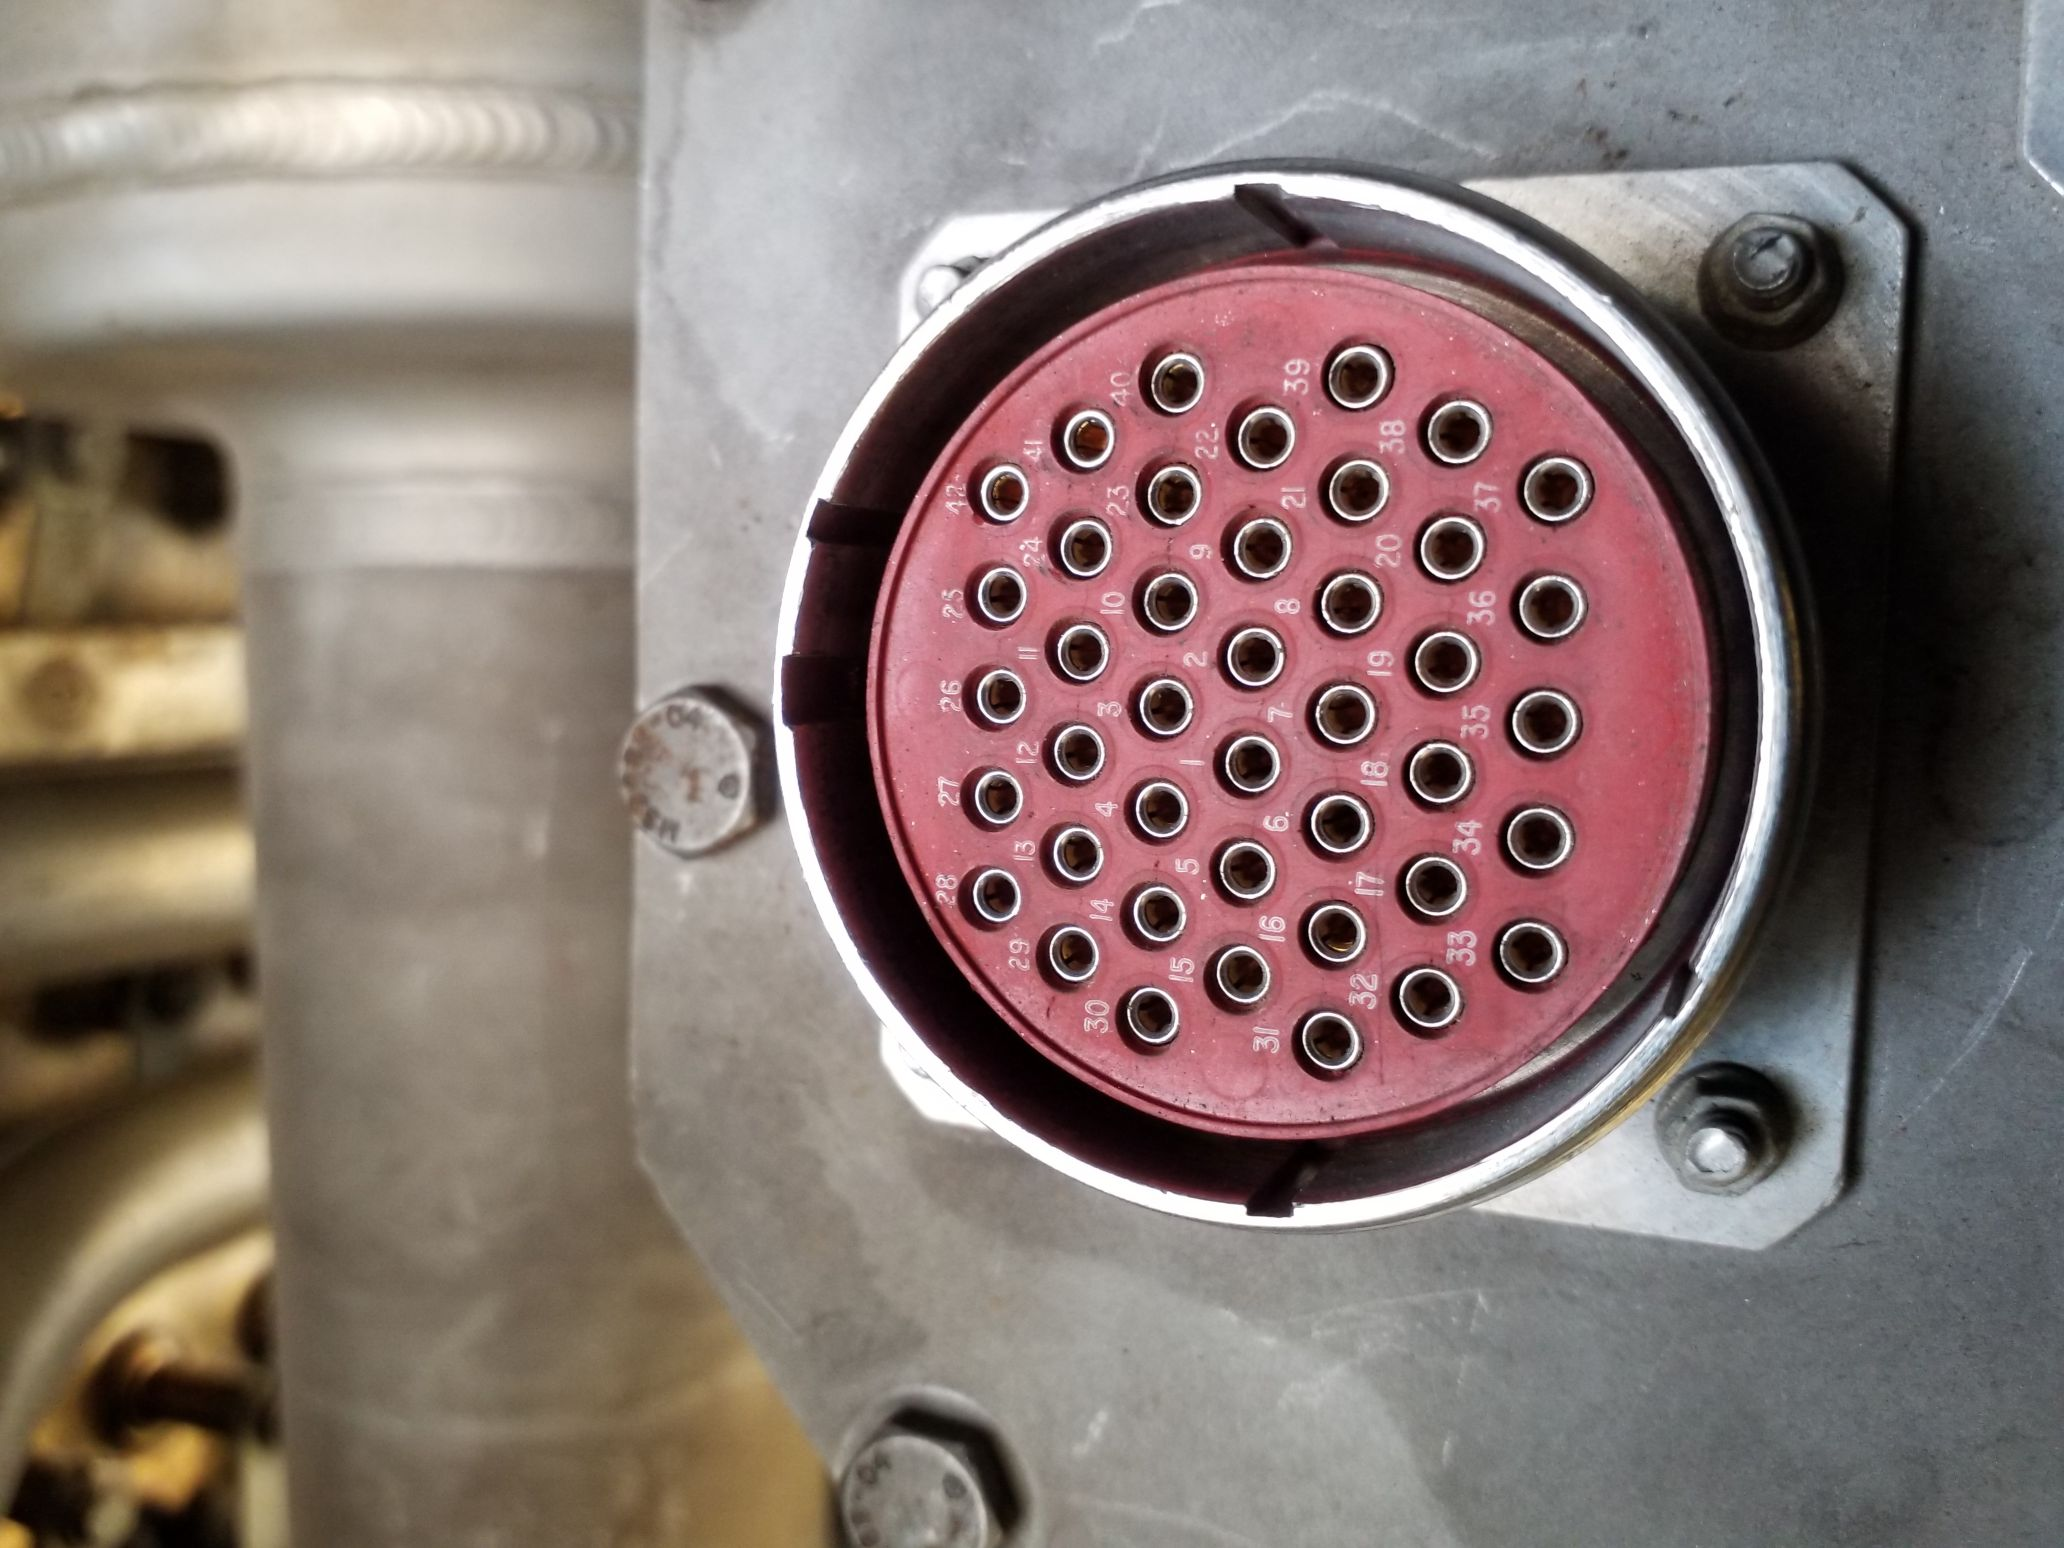inletnumbers: (762, 146, 1750, 1241)
